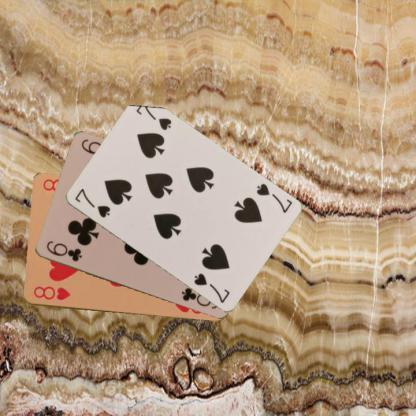6c: (44, 238, 84, 263)
7s: (72, 185, 112, 219), (254, 180, 294, 214)
8h: (30, 284, 72, 302)
